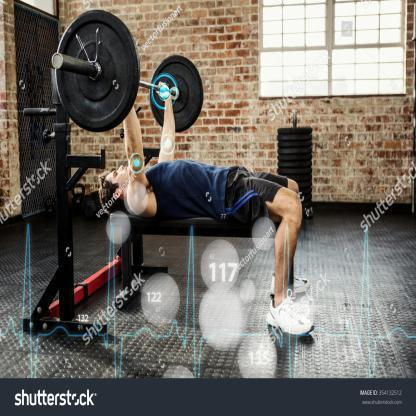Barbell: (52, 47, 65, 77)
